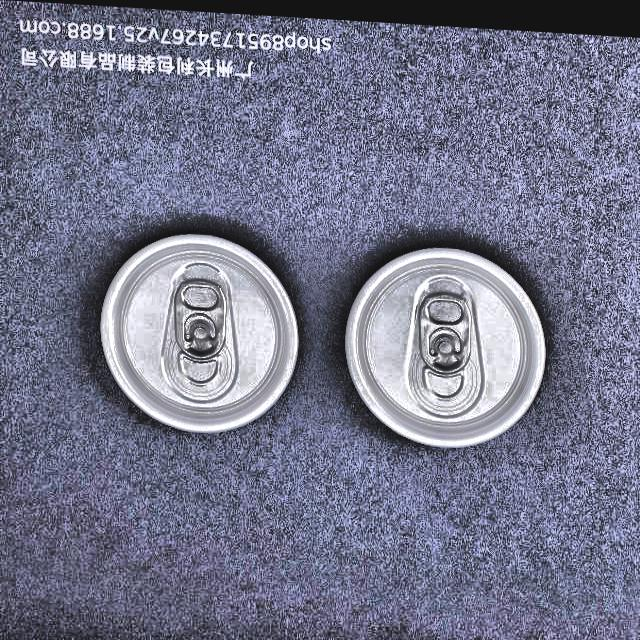can: (338, 231, 548, 456), (94, 222, 304, 444)
